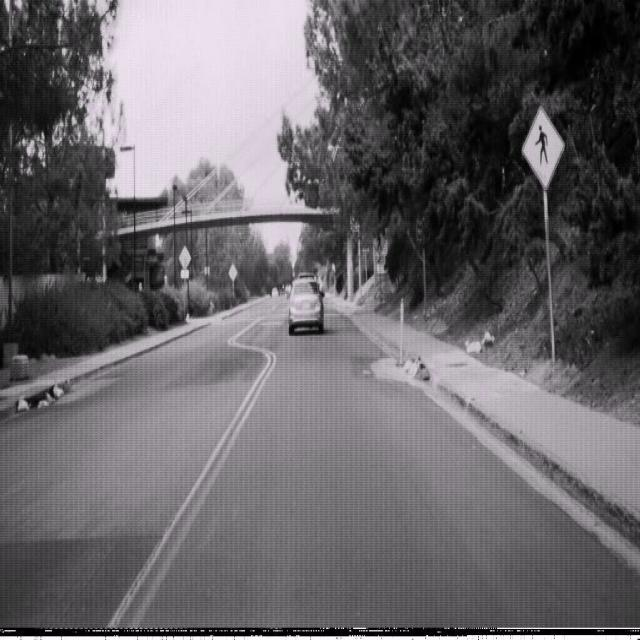pedestrianCrossing: (521, 105, 565, 189)
